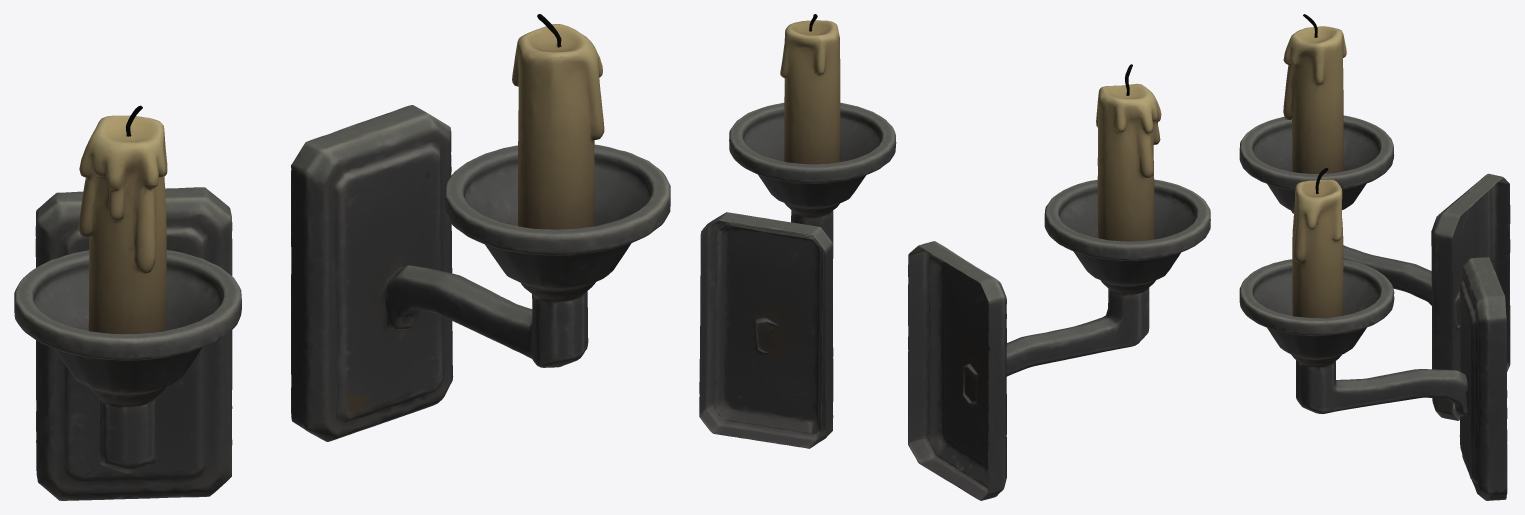
Rendered from crypt_CandleSconce.glb.
The picture shows the model from 3 angles, left to right: view 1: azimuth 30°, elevation 25°; view 2: azimuth 150°, elevation 25°; view 3: azimuth 270°, elevation 25°; orthographic projection. The views are drawn at different scales.
Parts seen in each view (by area): view 1: world; view 2: world; view 3: world.
Part boxes in pixels (bbox=[...]): world: bbox=[14, 14, 670, 500]; world: bbox=[699, 14, 1210, 500]; world: bbox=[1239, 14, 1510, 500].
Bounding box in the file's own units: 0.9996 × 0.7693 × 0.5444.
1 material, 1 textured.
